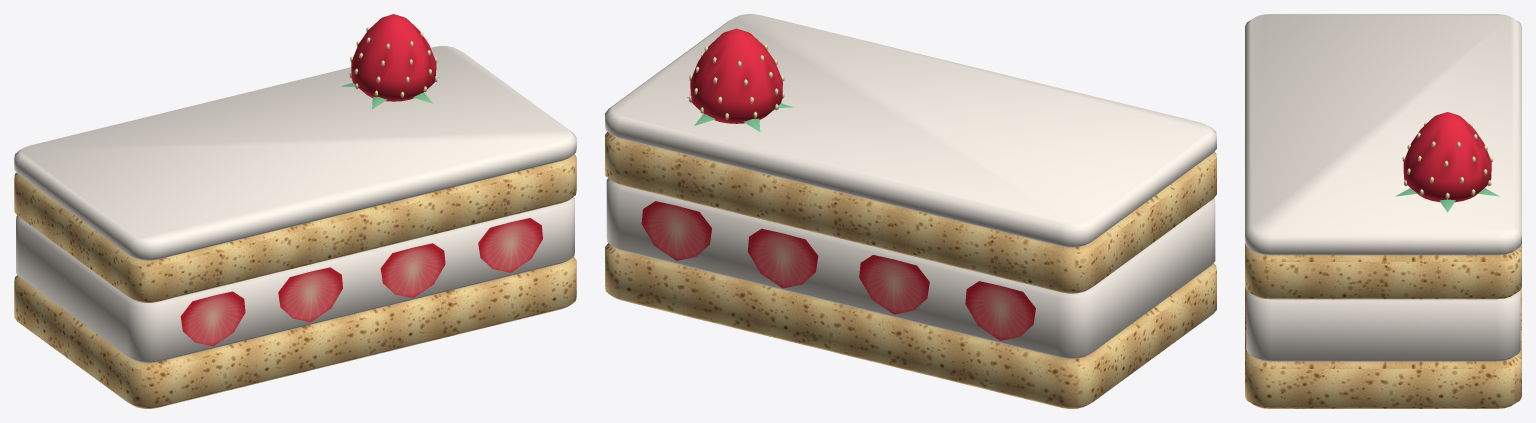
The model's file is shortcake.glb.
The picture shows the model from 3 angles, left to right: view 1: azimuth 30°, elevation 25°; view 2: azimuth 150°, elevation 25°; view 3: azimuth 270°, elevation 25°; orthographic projection. The views are drawn at different scales.
Parts seen in each view (by area): view 1: shortcake; view 2: shortcake; view 3: shortcake.
Part boxes in pixels (x1,y1,x2,y2): shortcake: (14, 14, 576, 408); shortcake: (605, 14, 1216, 408); shortcake: (1245, 14, 1521, 408).
Bounding box in the file's own units: 1.83 × 0.9531 × 0.9481.
6 materials, 2 textured.
